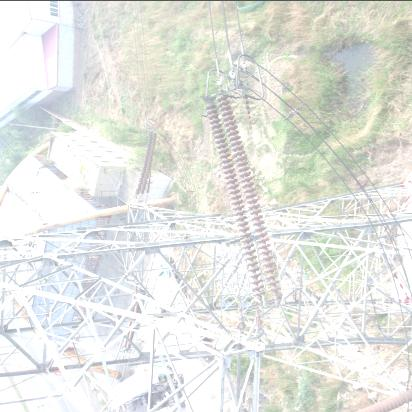insulator: (209, 90, 276, 313), (136, 130, 156, 200)
